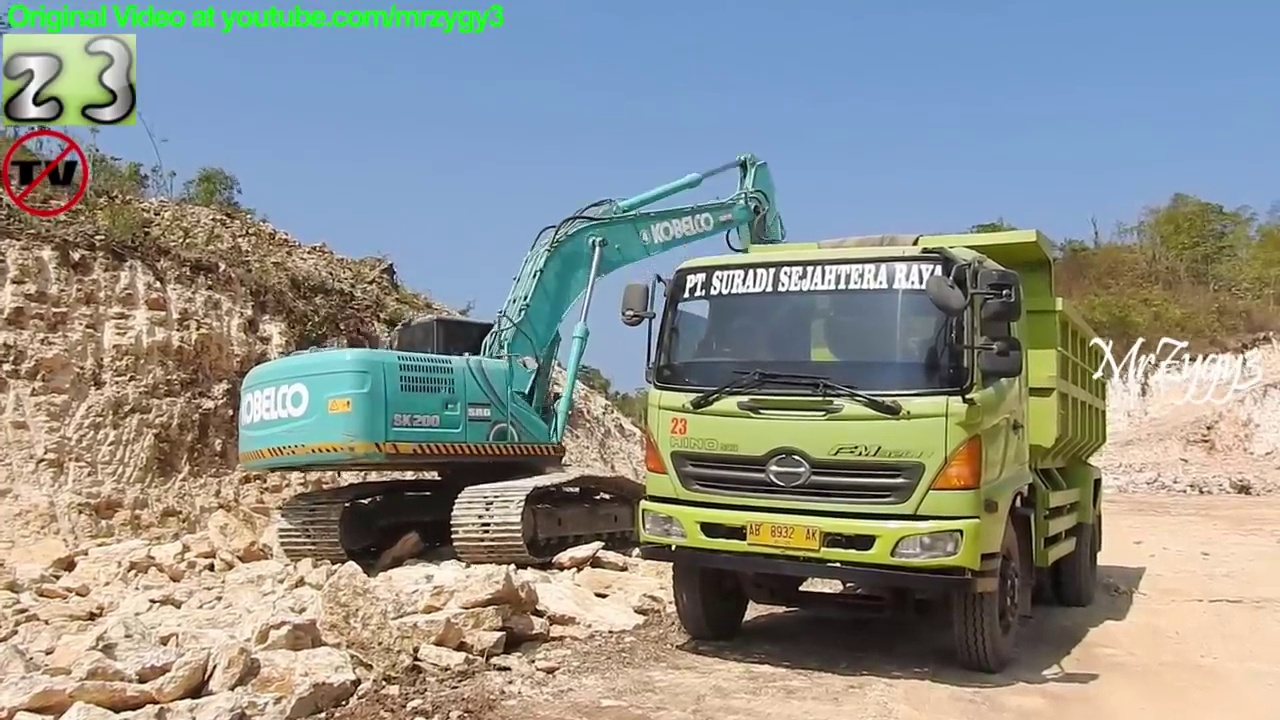excavator: (227, 145, 847, 579)
truck: (612, 217, 1117, 681)
